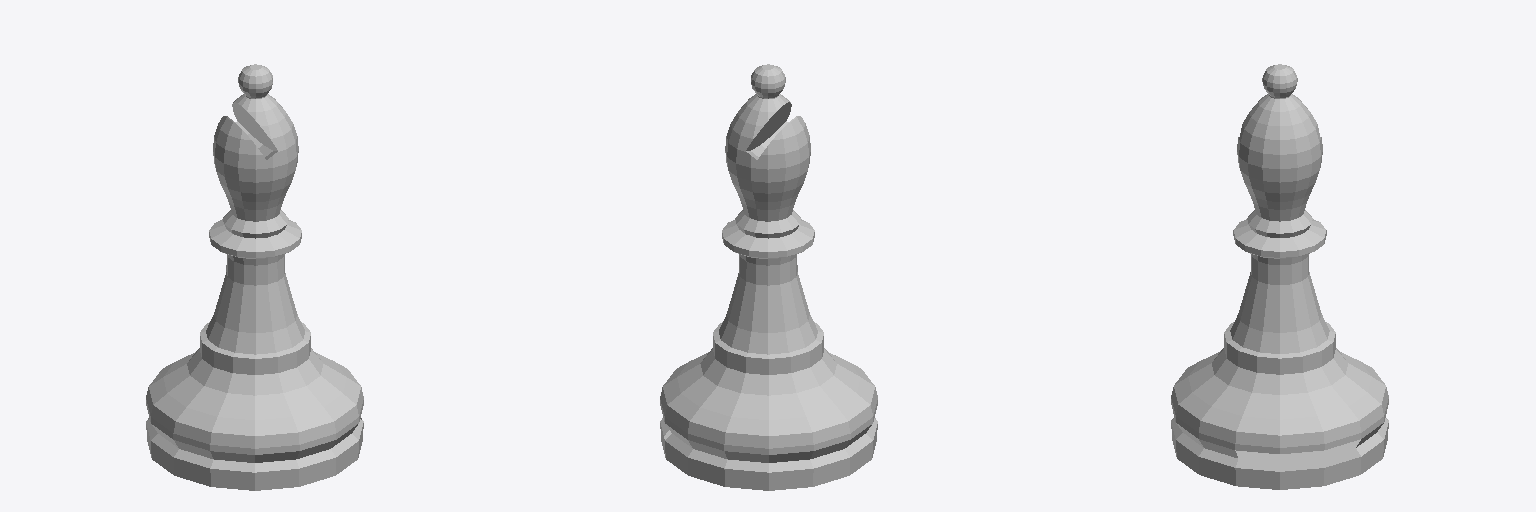
File: bishop.obj
3 renders of one model, left to right at view 1: azimuth 30°, elevation 25°; view 2: azimuth 150°, elevation 25°; view 3: azimuth 270°, elevation 25°, orthographic.
Visible parts, largest first — view 1: pieces; view 2: pieces; view 3: pieces.
Part boxes in pixels (left/top/right/bottom): pieces: left=146, top=64, right=363, bottom=490; pieces: left=660, top=64, right=877, bottom=490; pieces: left=1171, top=64, right=1388, bottom=489.
Size of the model in its own units: 0.9979 by 1.92 by 1.